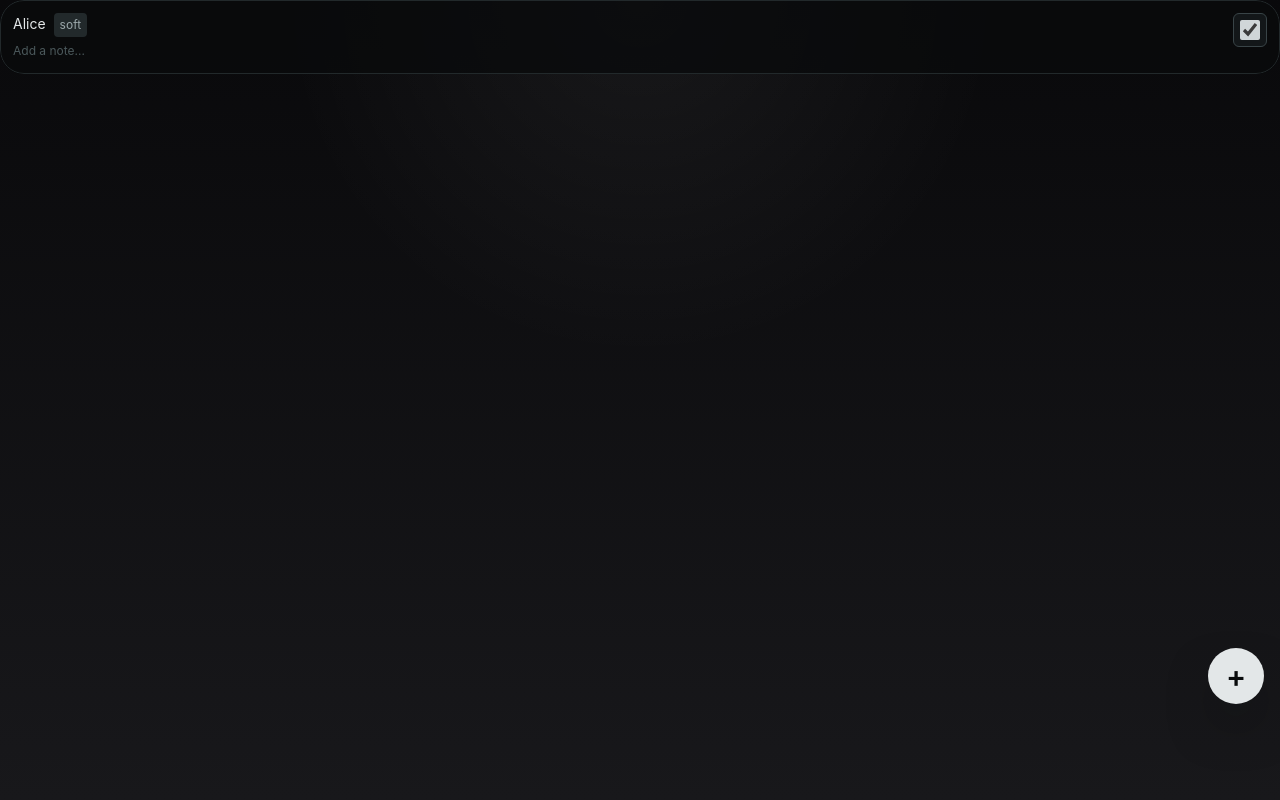
Test case: TransactionsTab › shows validation error for invalid formula
Click the button "Alice" at (29, 24), box [13, 15, 46, 32]
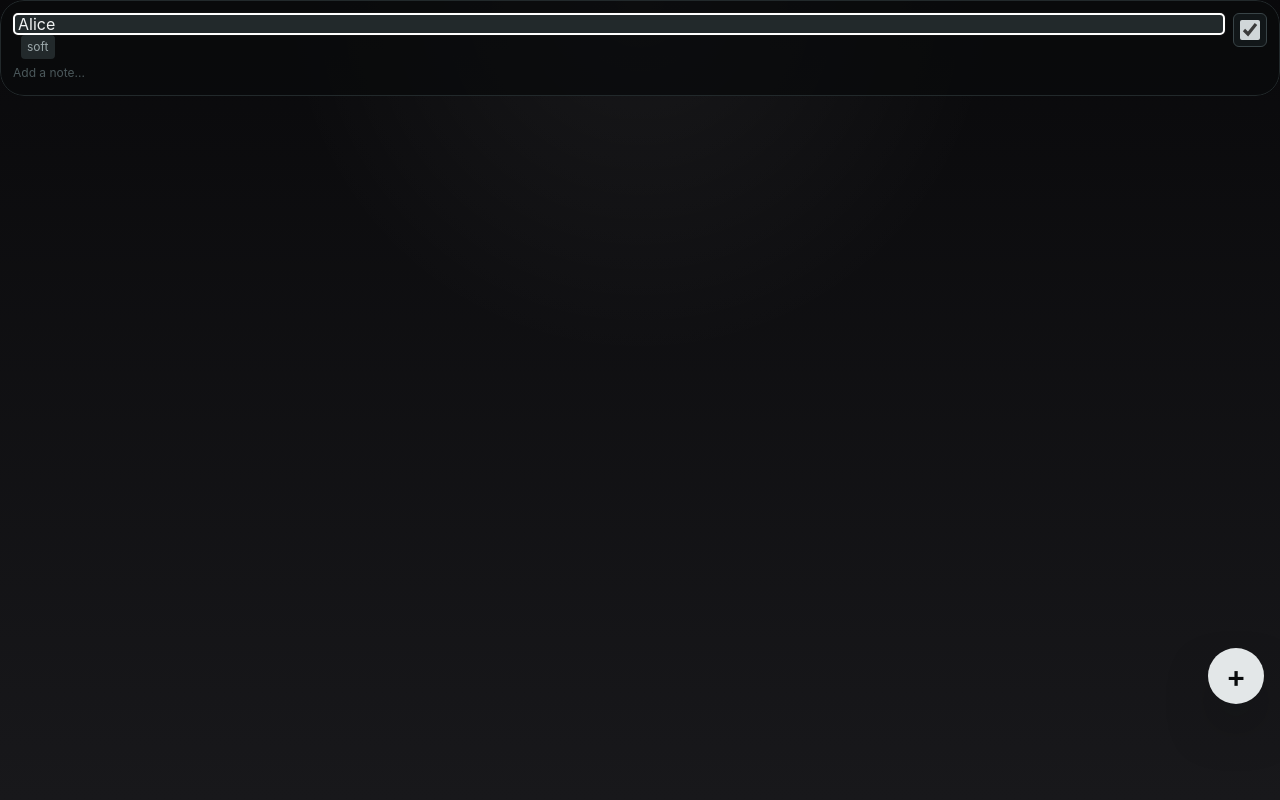
Replace the text in the field named "Edit formula" with "Unknown" at (619, 24), box [13, 13, 1225, 35]
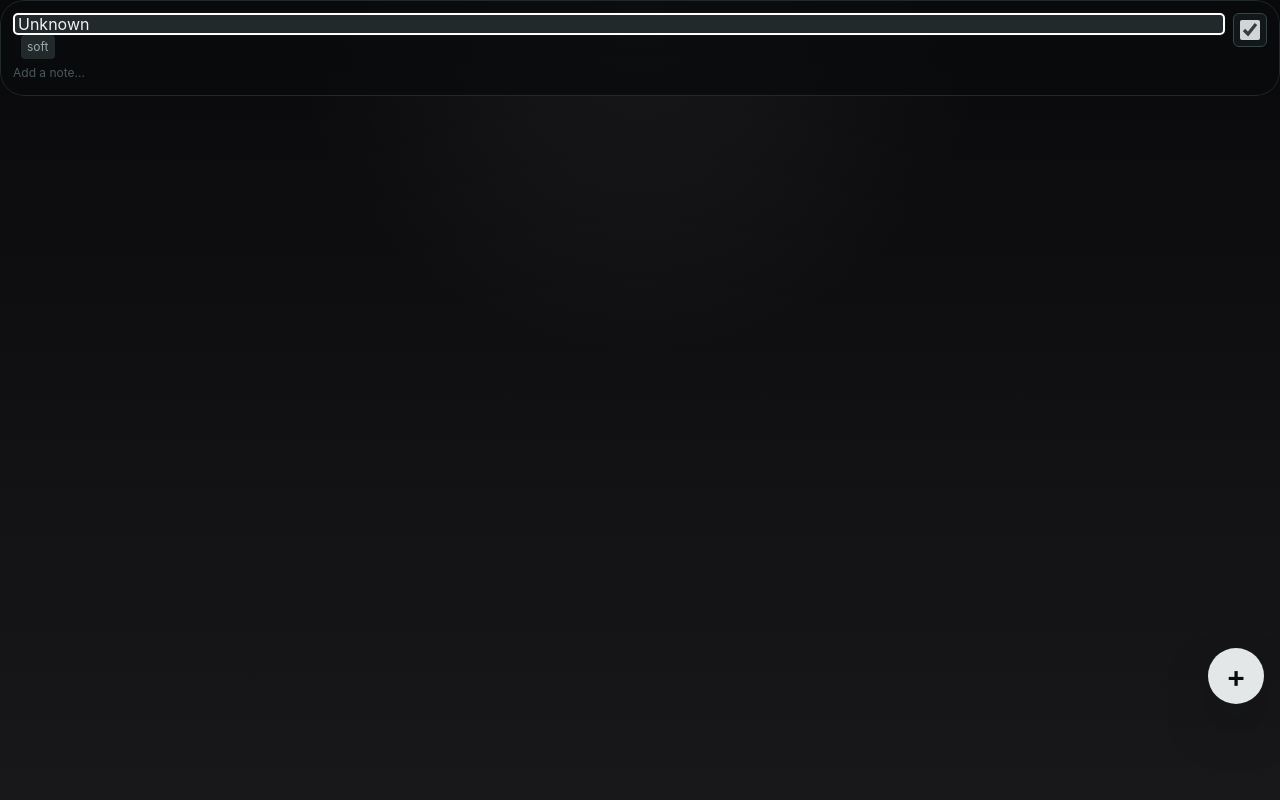
Press Tab
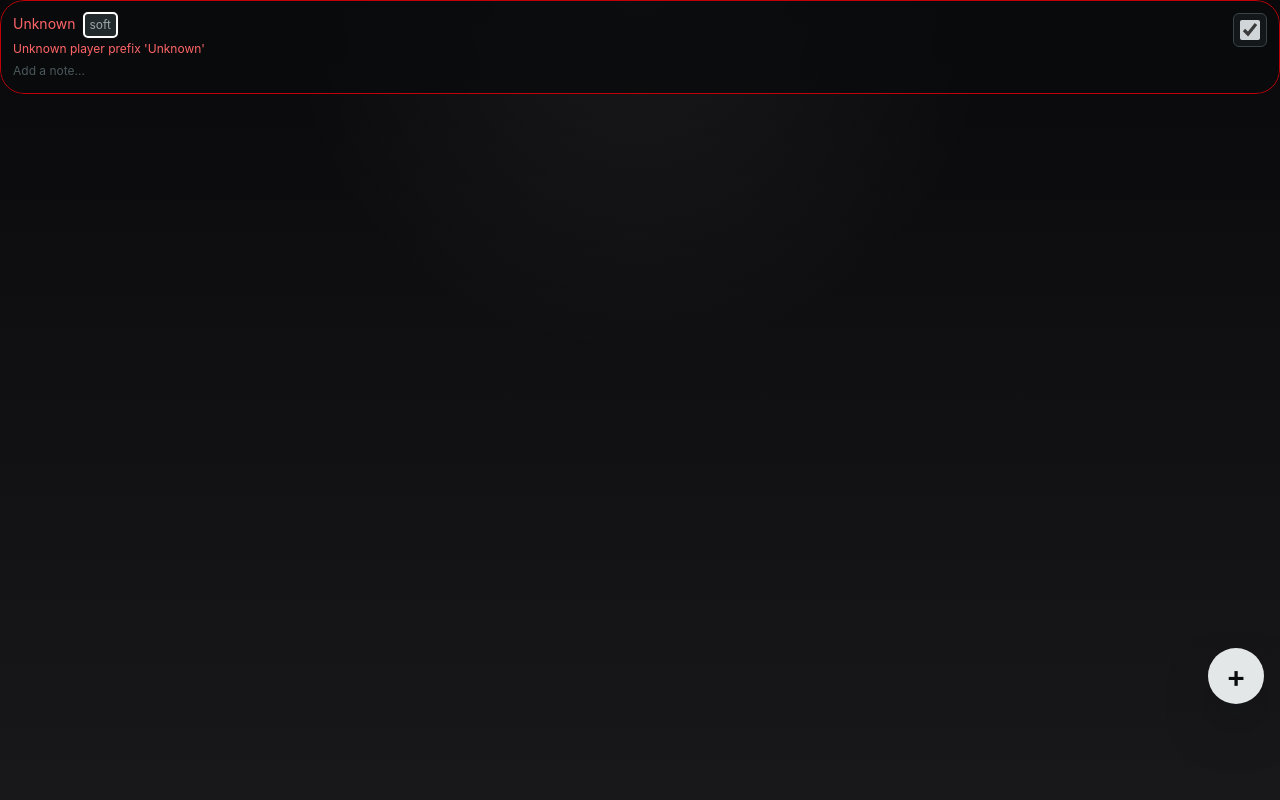
Result: the text "Unknown player prefix 'Unknown'" is shown at [13, 41, 205, 56]
